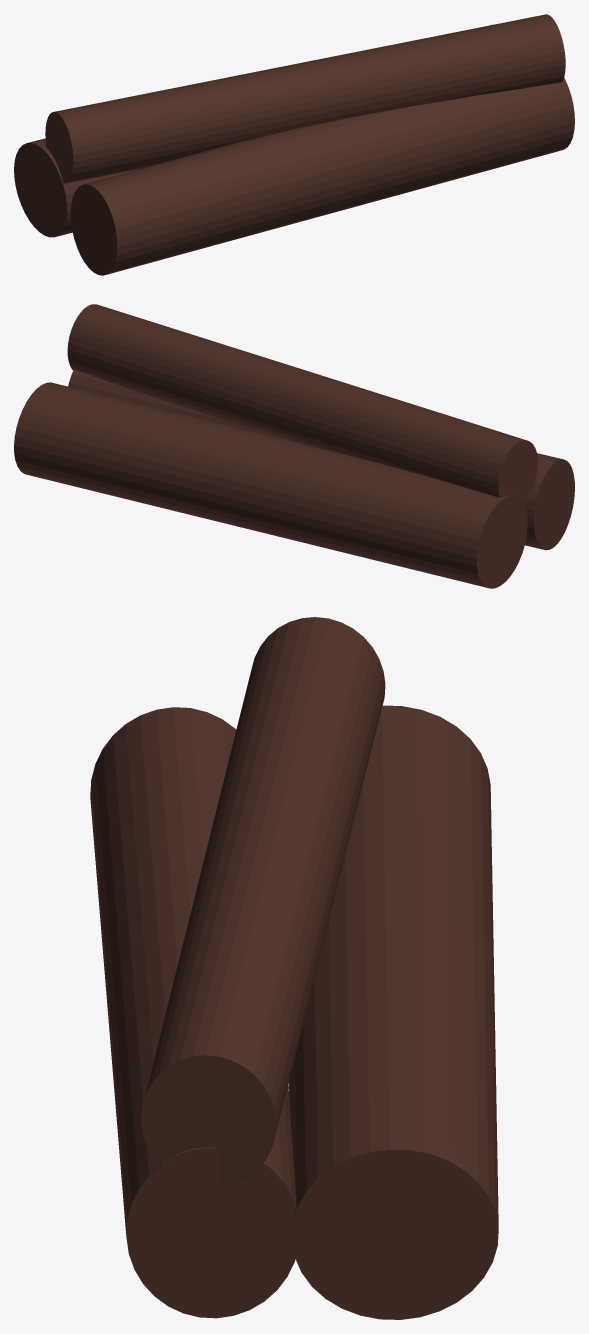
The model's file is wood.fbx.
3 views of the same model, one above another, from view 1: azimuth 30°, elevation 25°; view 2: azimuth 150°, elevation 25°; view 3: azimuth 270°, elevation 25° (orthographic). The views are drawn at different scales.
Visible parts, largest first — view 1: Cylinder.001, Cylinder.002, Cylinder; view 2: Cylinder, Cylinder.002, Cylinder.001; view 3: Cylinder, Cylinder.002, Cylinder.001.
Part boxes in pixels (left/top/right/bottom): Cylinder.001: left=70, top=78, right=574, bottom=275; Cylinder.002: left=45, top=14, right=565, bottom=183; Cylinder: left=14, top=24, right=492, bottom=237; Cylinder: left=14, top=382, right=527, bottom=588; Cylinder.002: left=67, top=304, right=537, bottom=503; Cylinder.001: left=68, top=369, right=574, bottom=550; Cylinder: left=288, top=705, right=498, bottom=1319; Cylinder.002: left=141, top=617, right=385, bottom=1187; Cylinder.001: left=90, top=707, right=296, bottom=1318.
Size of the model in its own units: 191 by 53.03 by 72.69.
